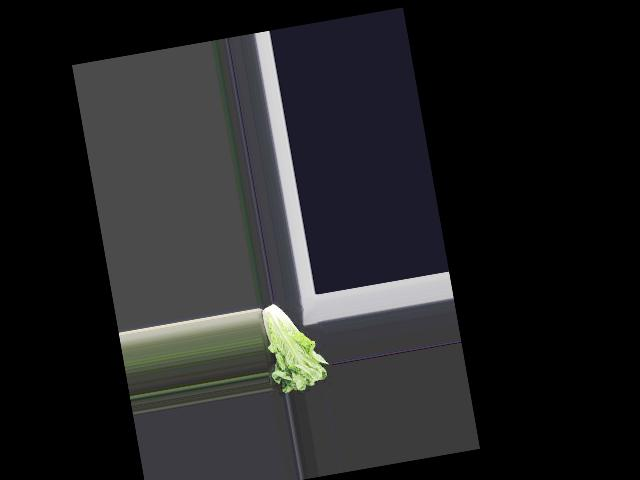lettuce: (259, 295, 331, 396)
